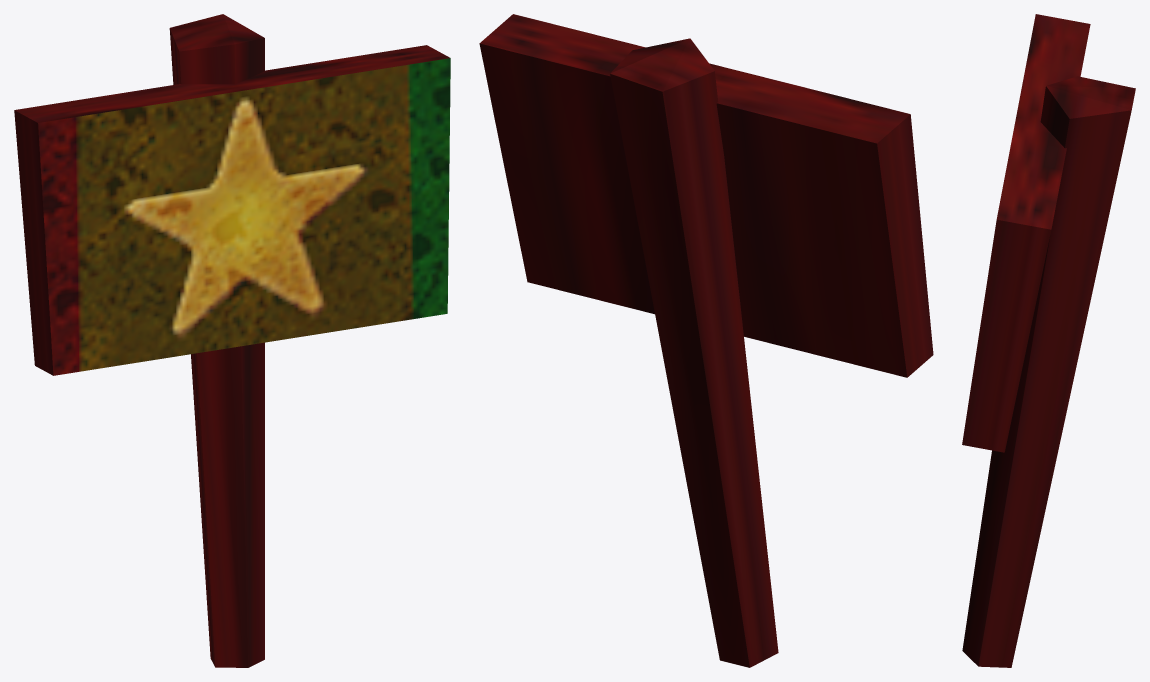
File: SignYellowStar.gltf
The picture shows the model from 3 angles, left to right: view 1: azimuth 30°, elevation 25°; view 2: azimuth 150°, elevation 25°; view 3: azimuth 270°, elevation 25°; orthographic projection. The views are drawn at different scales.
Visible parts, largest first — view 1: SignYellowStarMesh; view 2: SignYellowStarMesh; view 3: SignYellowStarMesh.
Boxes of the visible parts, box(x1,y1,x2,y2) form: SignYellowStarMesh: box(14, 14, 450, 667); SignYellowStarMesh: box(479, 14, 933, 667); SignYellowStarMesh: box(962, 14, 1135, 667).
Size of the model in its own units: 1.67 by 2.38 by 0.6383.
Materials: 1 (1 with a texture image).
